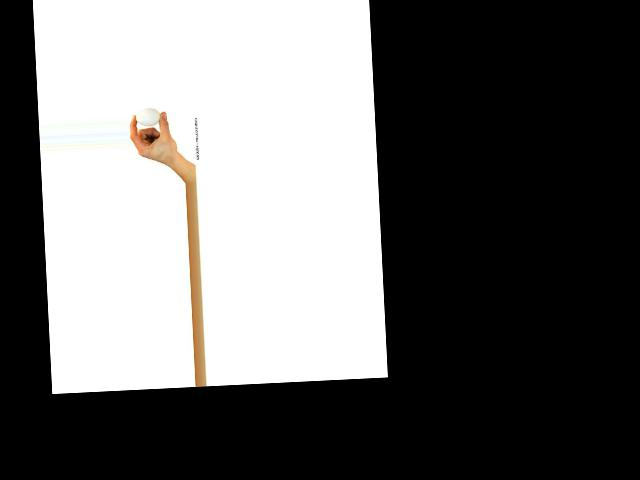egg: (135, 108, 161, 127)
